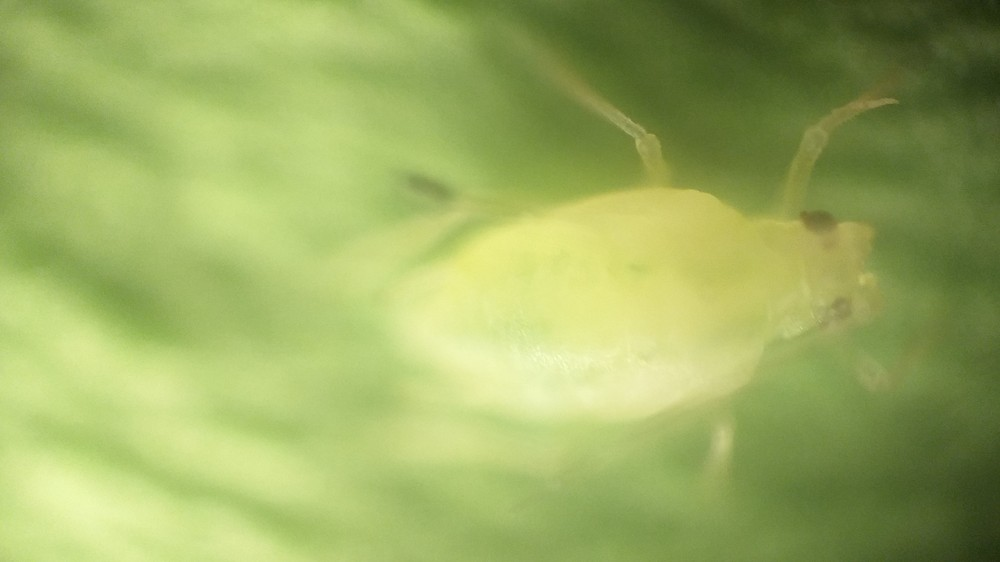Pulgon: (255, 44, 964, 539)
